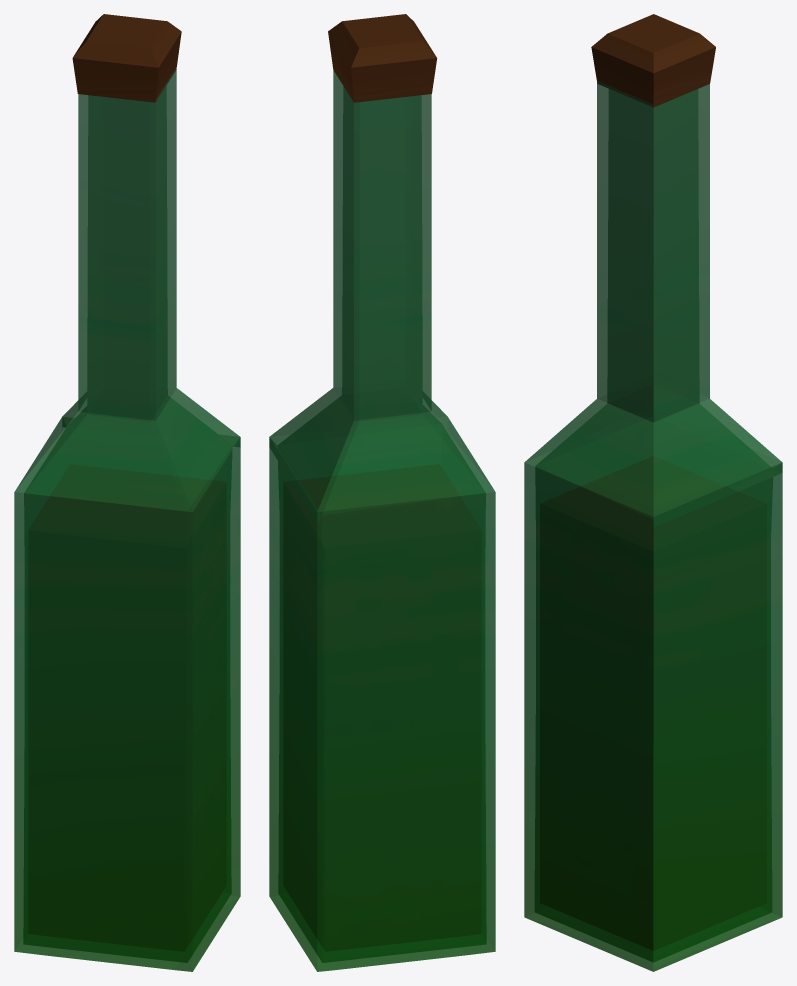
Rendered from bottle.fbx.
The picture shows the model from 3 angles, left to right: view 1: azimuth 30°, elevation 25°; view 2: azimuth 150°, elevation 25°; view 3: azimuth 270°, elevation 25°; orthographic projection.
Visible parts, largest first — view 1: Cylinder, Cylinder.001, Cylinder.002; view 2: Cylinder, Cylinder.001, Cylinder.002; view 3: Cylinder, Cylinder.001, Cylinder.002.
Boxes of the visible parts, bbox=[...] form: Cylinder: bbox=[14, 67, 240, 971]; Cylinder.001: bbox=[29, 465, 225, 950]; Cylinder.002: bbox=[72, 14, 181, 102]; Cylinder: bbox=[269, 70, 495, 971]; Cylinder.001: bbox=[284, 464, 480, 950]; Cylinder.002: bbox=[328, 14, 437, 102]; Cylinder: bbox=[524, 81, 782, 971]; Cylinder.001: bbox=[540, 456, 766, 950]; Cylinder.002: bbox=[591, 14, 715, 107].
Bounding box in the file's own units: 200 × 765 × 200.
Materials: 2 (2 with a texture image).
